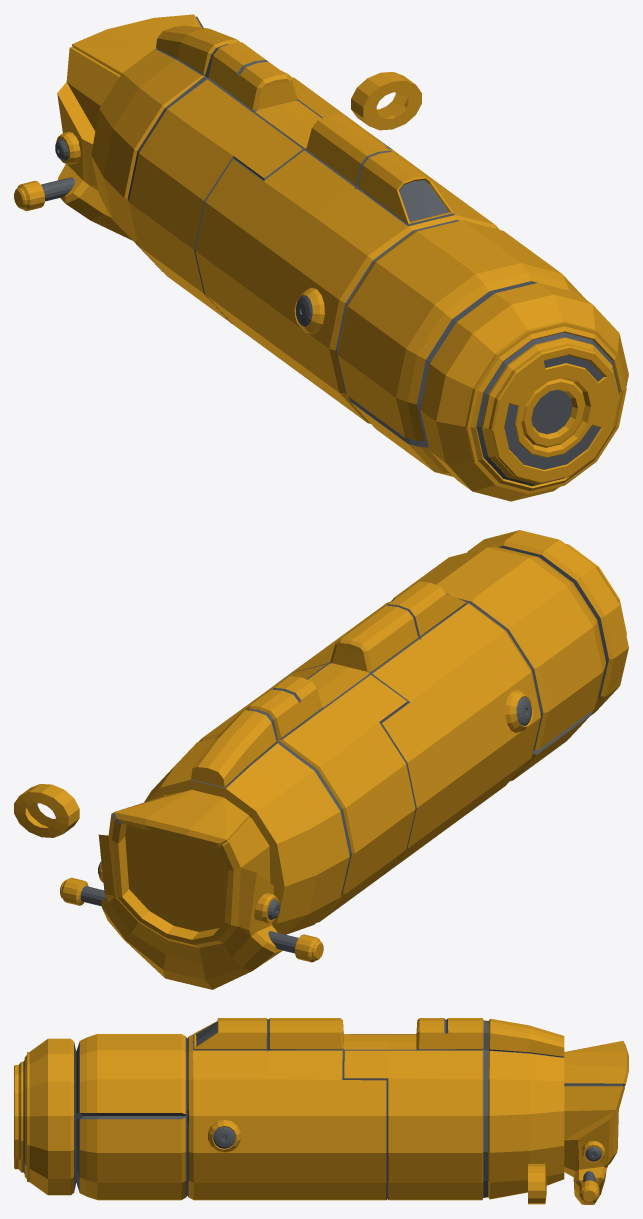
The model's file is Personal_Vehicle_04_Base_Body_Yellow.fbx.
3 renders of one model, top to bottom at view 1: azimuth 30°, elevation 25°; view 2: azimuth 150°, elevation 25°; view 3: azimuth 270°, elevation 25°, orthographic. The views are drawn at different scales.
Parts seen in each view (by area): view 1: Personal_Vehicle_04_Base_Body_Yellow; view 2: Personal_Vehicle_04_Base_Body_Yellow; view 3: Personal_Vehicle_04_Base_Body_Yellow.
Part boxes in pixels (box(x1,y1,x2,y2)): Personal_Vehicle_04_Base_Body_Yellow: box(14, 14, 628, 501); Personal_Vehicle_04_Base_Body_Yellow: box(14, 530, 628, 989); Personal_Vehicle_04_Base_Body_Yellow: box(14, 1018, 628, 1204).
Size of the model in its own units: 130 by 83.58 by 266.
Materials: 2 (2 with a texture image).
